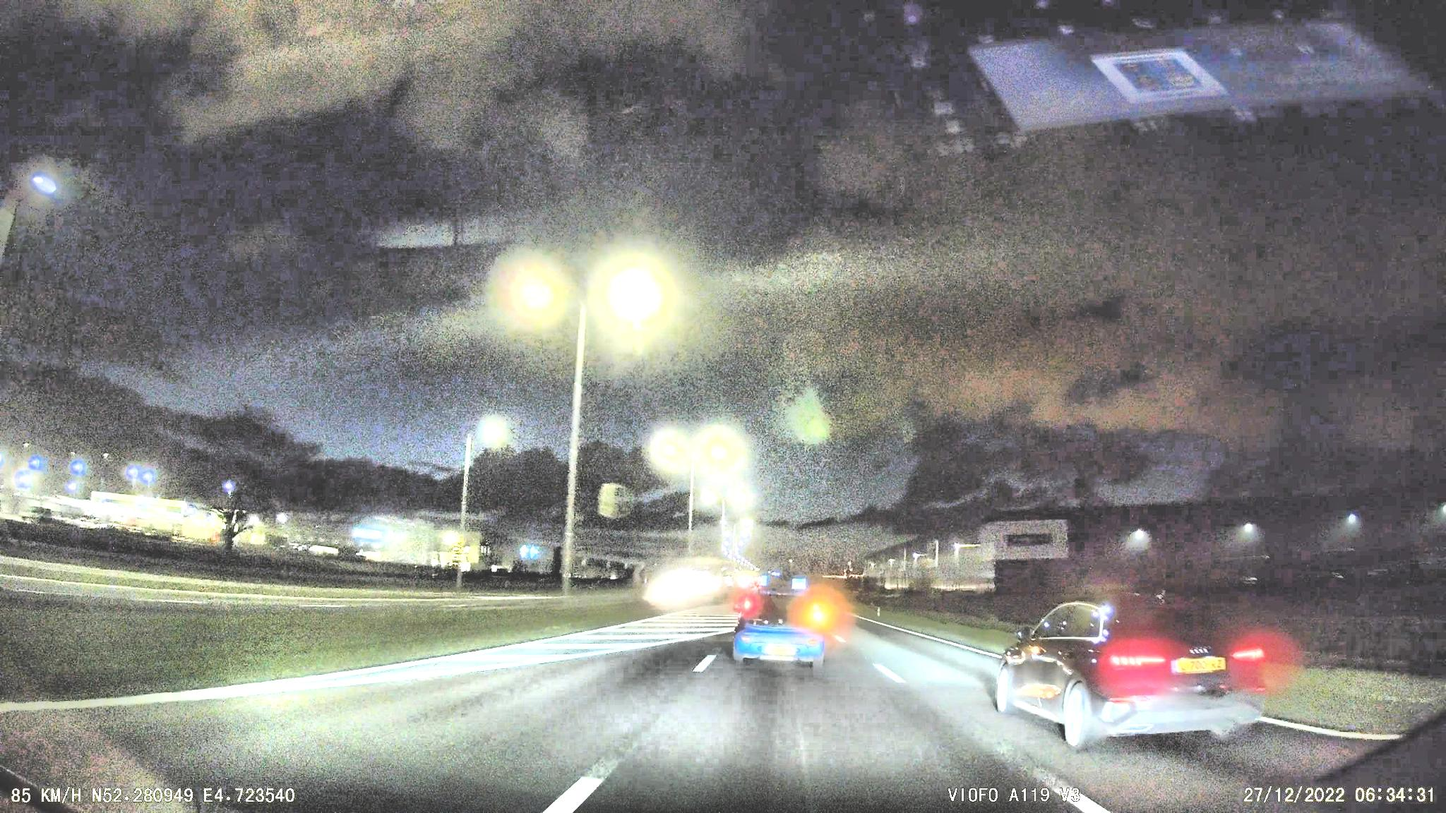Roads: (0, 617, 1446, 813)
